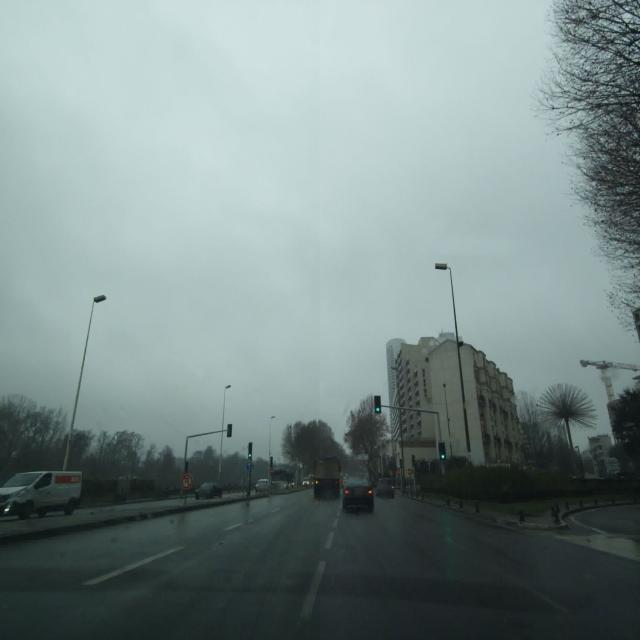car: (0, 468, 83, 520), (341, 475, 375, 512), (195, 480, 223, 500), (375, 477, 395, 498), (255, 478, 270, 493)
